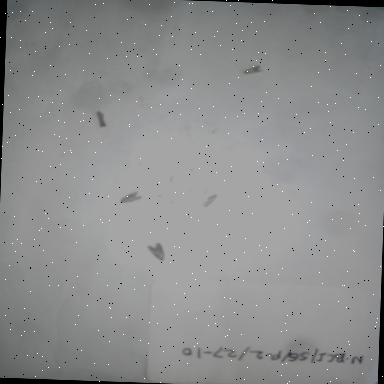pbw: (142, 240, 167, 262), (118, 190, 146, 206), (200, 192, 218, 210), (93, 110, 109, 130), (240, 64, 264, 76)
